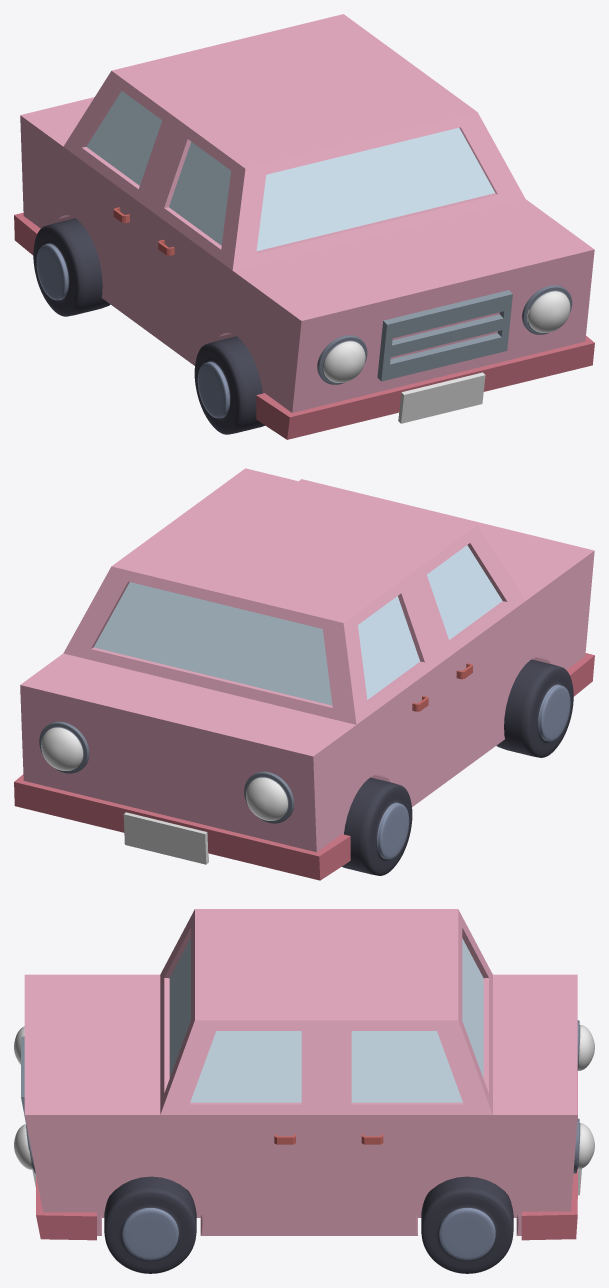
File: car(1).fbx
3 renders of one model, top to bottom at view 1: azimuth 30°, elevation 25°; view 2: azimuth 150°, elevation 25°; view 3: azimuth 270°, elevation 25°, orthographic.
Parts seen in each view (by area): view 1: Cube, Cube.001, Cylinder.001, Cylinder.002, Cube.002, Circle, Circle.001; view 2: Cube, Cylinder.002, Cylinder.001, Cube.003, Circle.002, Circle.003; view 3: Cube, Cylinder.003, Cylinder.004, Circle.003, Circle.002, Circle.001.
Part boxes in pixels (bbox=[...]): Cube: bbox=[14, 14, 594, 439]; Cube.001: bbox=[377, 290, 512, 381]; Cylinder.001: bbox=[33, 218, 110, 316]; Cylinder.002: bbox=[194, 336, 264, 434]; Cube.002: bbox=[398, 372, 485, 423]; Circle: bbox=[317, 335, 367, 384]; Circle.001: bbox=[522, 285, 572, 334]; Cube: bbox=[14, 468, 594, 880]; Cylinder.002: bbox=[496, 659, 573, 757]; Cylinder.001: bbox=[342, 777, 412, 875]; Cube.003: bbox=[123, 812, 208, 864]; Circle.002: bbox=[244, 771, 294, 823]; Circle.003: bbox=[39, 721, 89, 773]; Cube: bbox=[24, 909, 577, 1240]; Cylinder.003: bbox=[421, 1176, 513, 1273]; Cylinder.004: bbox=[104, 1176, 196, 1273]; Circle.003: bbox=[573, 1118, 594, 1173]; Circle.002: bbox=[577, 1020, 594, 1070]; Circle.001: bbox=[14, 1124, 35, 1173].
Bounding box in the file's own units: 235 × 153 × 349.
